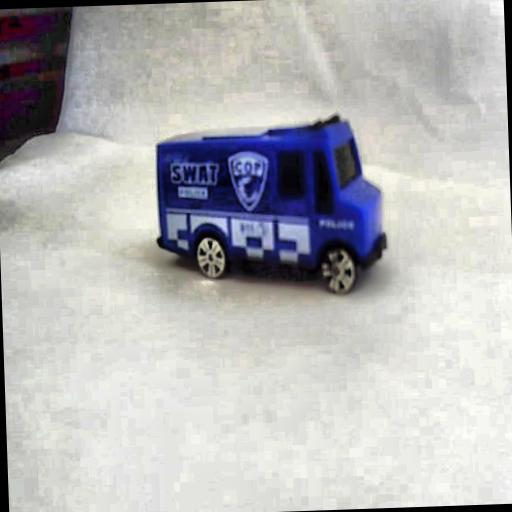police car: (148, 110, 394, 312)
